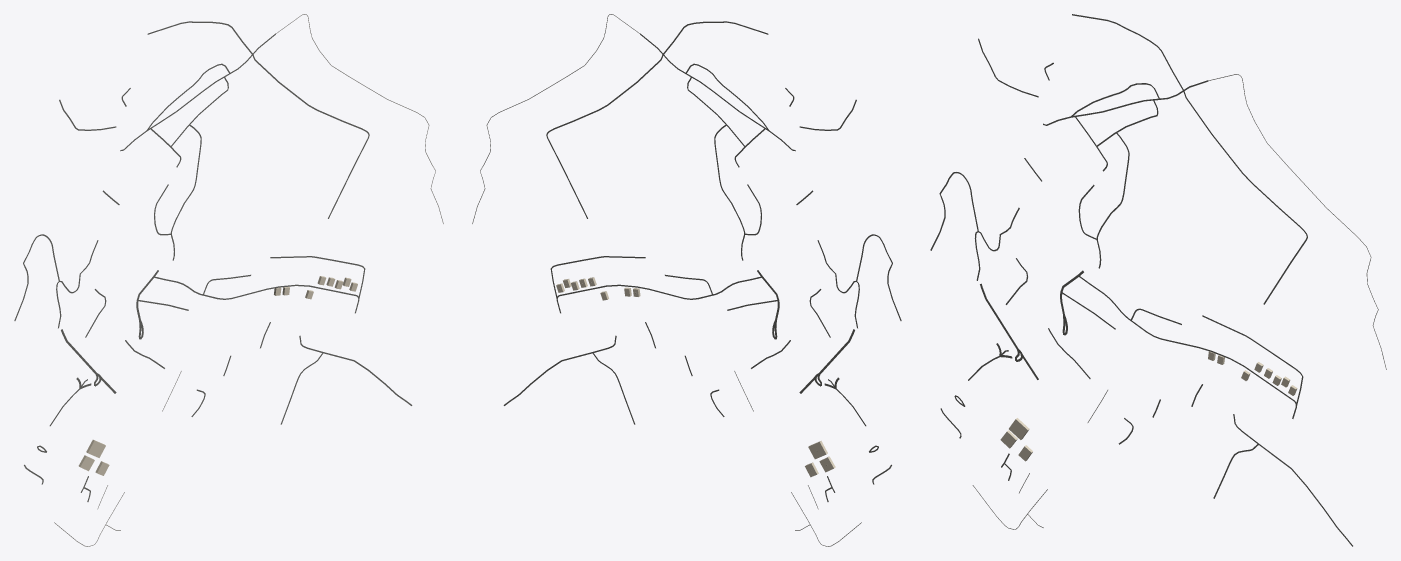
File: historic-palestine-08_21_3504_3150.glb
3 views of the same model, side by side, from view 1: azimuth 30°, elevation 25°; view 2: azimuth 150°, elevation 25°; view 3: azimuth 330°, elevation 25° (orthographic). The views are drawn at different scales.
Visible parts, largest first — view 1: Road .036; view 2: Road .036; view 3: Road .036.
Boxes of the visible parts, x1,y1,x2,y2 form: Road .036: [147, 21, 369, 218]; Road .036: [546, 21, 768, 218]; Road .036: [1072, 14, 1307, 304].
Bounding box in the file's own units: 1102 × 1229 × 8.7.
